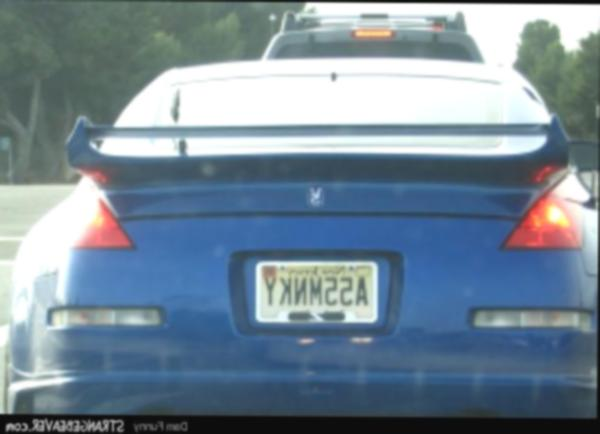License_Plate: (251, 250, 380, 330)
